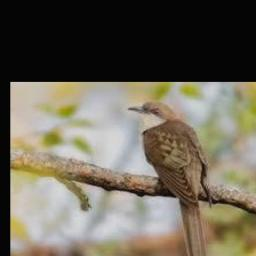Cuckoo: (127, 100, 210, 256)
